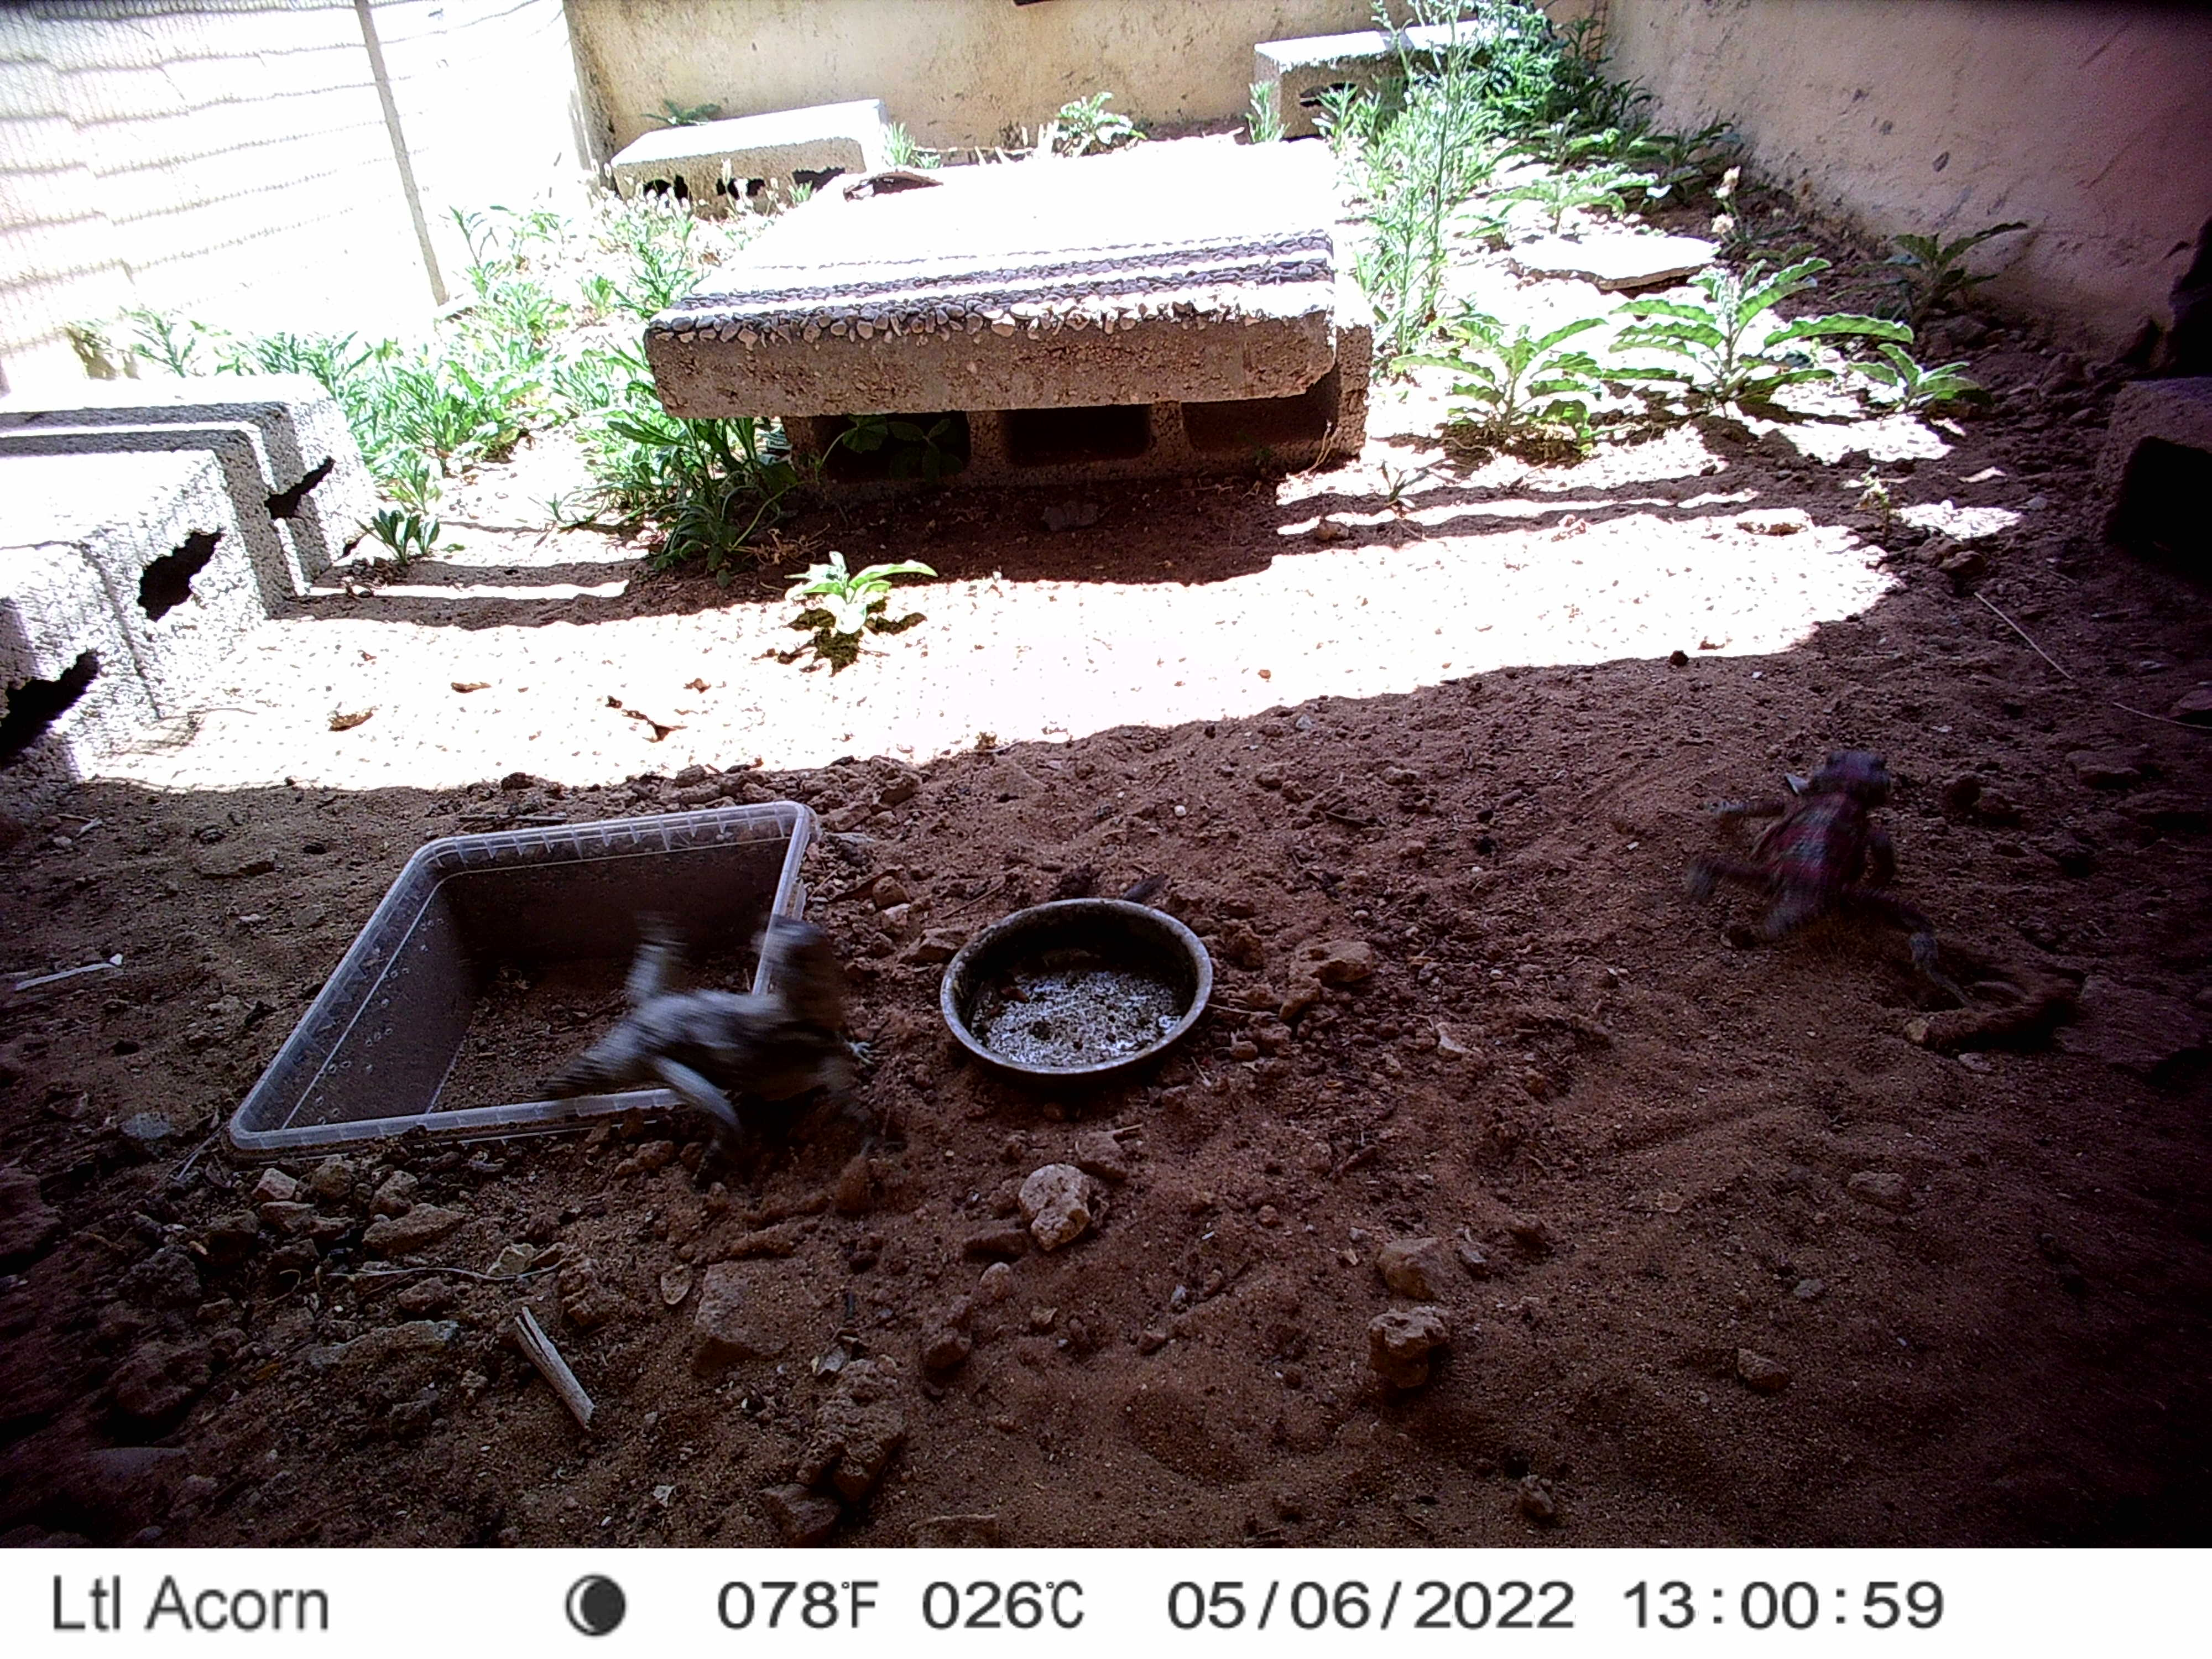lizard: (554, 913, 862, 1183), (1691, 742, 1940, 972)
